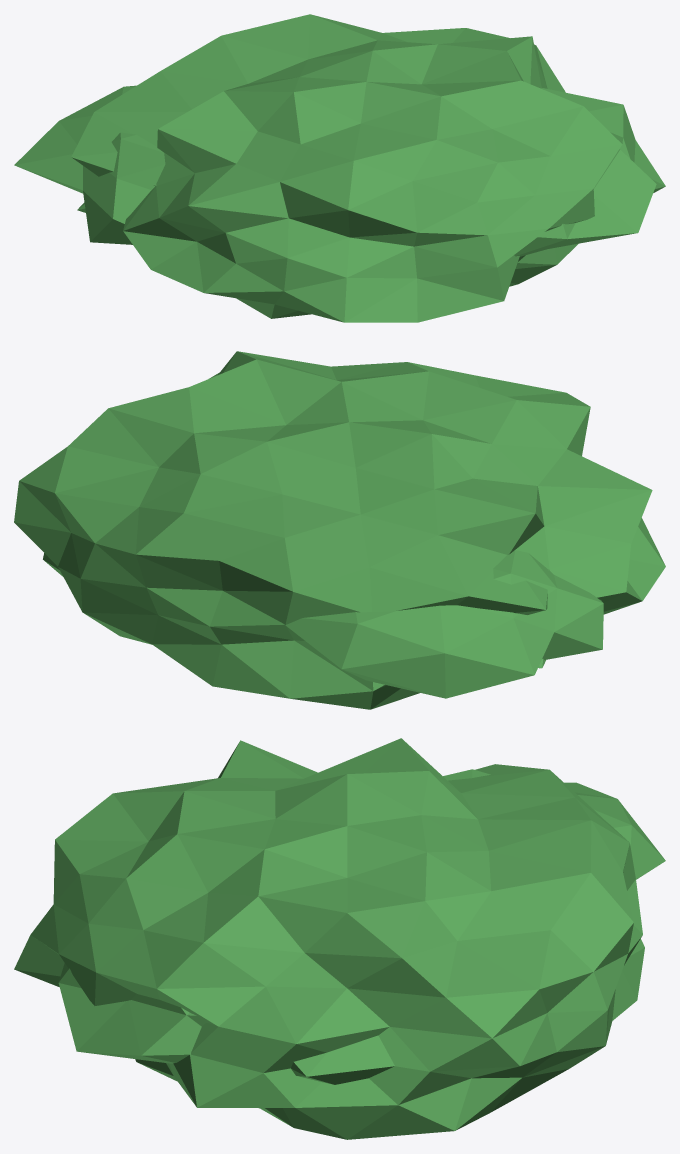
The model's file is hill-a.glb.
3 views of the same model, one above another, from view 1: azimuth 30°, elevation 25°; view 2: azimuth 150°, elevation 25°; view 3: azimuth 270°, elevation 25° (orthographic). The views are drawn at different scales.
Visible parts, largest first — view 1: mountain; view 2: mountain; view 3: mountain.
Boxes of the visible parts, <box> form: mountain: <box>14,14,665,322</box>; mountain: <box>14,351,665,709</box>; mountain: <box>14,738,665,1139</box>.
Size of the model in its own units: 229 by 82.62 by 215.
